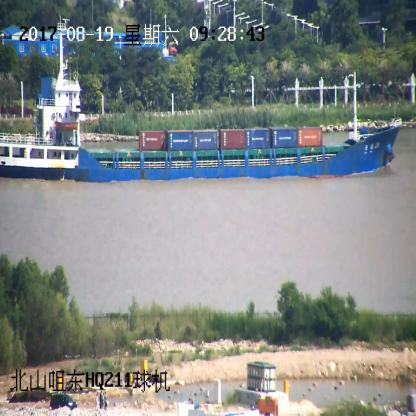Bulk Carrier: (0, 42, 400, 178)
